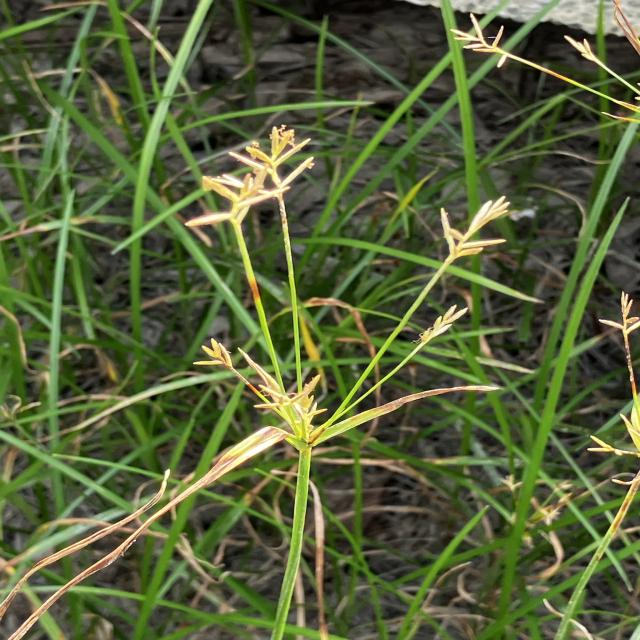cyperus: (177, 128, 508, 447), (451, 6, 640, 126), (573, 282, 640, 466)
